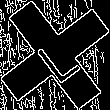L_NW: (27, 25, 83, 85)
